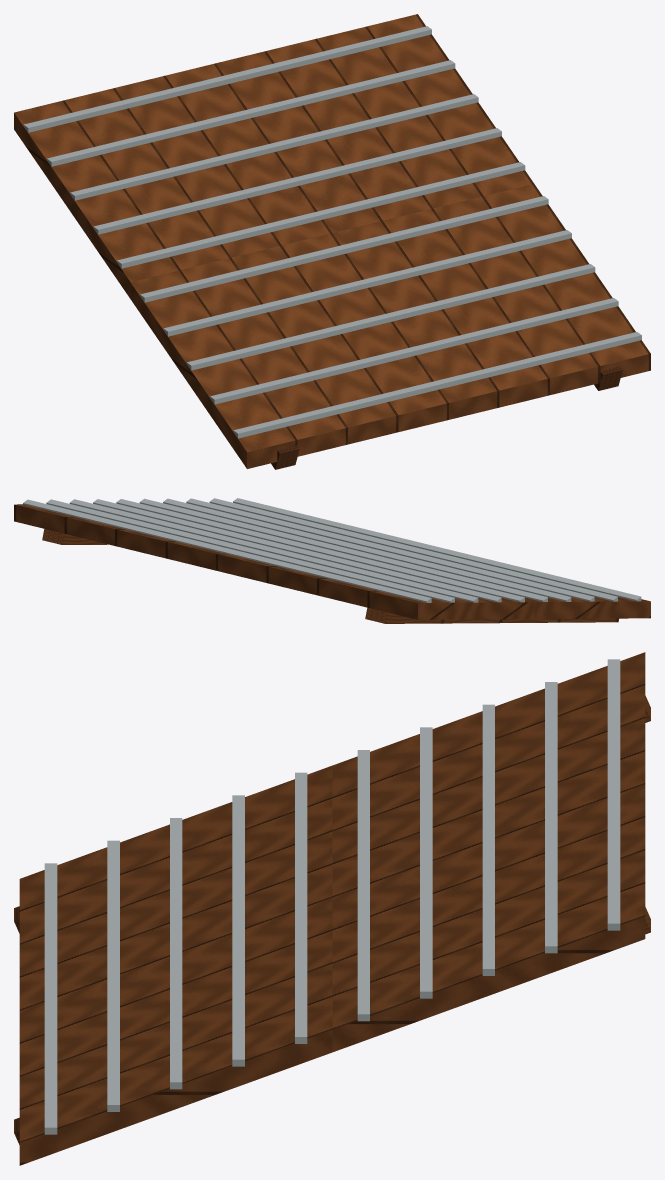
Rendered from prehistoric-survivor-settlement-earthwork-access-ramp-4eb969f9__23198.glb.
The picture shows the model from 3 angles, top to bottom: view 1: azimuth 30°, elevation 25°; view 2: azimuth 150°, elevation 25°; view 3: azimuth 270°, elevation 25°; orthographic projection. The views are drawn at different scales.
Visible parts, largest first — view 1: earthwork-access-ramp; view 2: earthwork-access-ramp; view 3: earthwork-access-ramp.
Boxes of the visible parts, bbox=[...] form: earthwork-access-ramp: bbox=[14, 14, 650, 469]; earthwork-access-ramp: bbox=[14, 498, 650, 623]; earthwork-access-ramp: bbox=[14, 652, 650, 1165].
Size of the model in its own units: 2 by 0.9264 by 2.04.
Materials: 2 (1 with a texture image).
